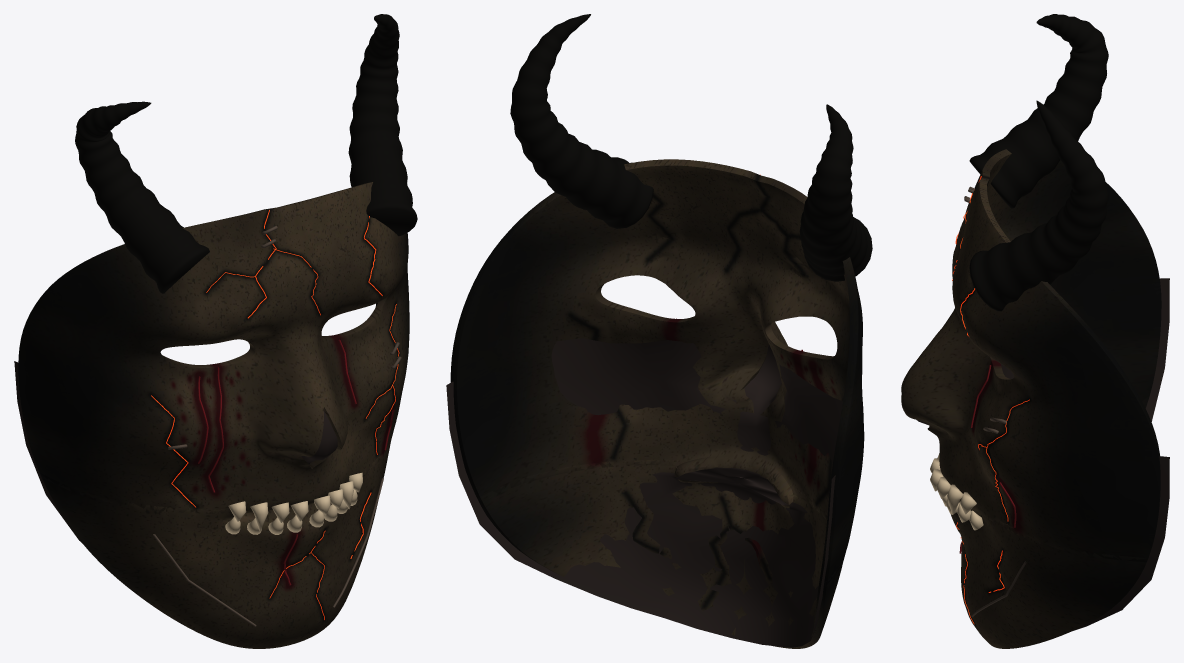
The model's file is masca_ritual.glb.
3 views of the same model, side by side, from view 1: azimuth 30°, elevation 25°; view 2: azimuth 150°, elevation 25°; view 3: azimuth 270°, elevation 25° (orthographic). The views are drawn at different scales.
Parts seen in each view (by area): view 1: MaskShell, Jaw, MouthLiner; view 2: MaskShell, MouthLiner, Jaw; view 3: MaskShell, Jaw, MouthLiner.
Boxes of the visible parts, x1=… form: MaskShell: x1=18, y1=14, x2=417, y2=530; Jaw: x1=40, y1=440, x2=390, y2=648; MouthLiner: x1=14, y1=361, x2=337, y2=543; MaskShell: x1=450, y1=14, x2=872, y2=584; MouthLiner: x1=446, y1=338, x2=842, y2=647; Jaw: x1=476, y1=459, x2=843, y2=648; MaskShell: x1=901, y1=14, x2=1161, y2=562; Jaw: x1=942, y1=397, x2=1148, y2=648; MouthLiner: x1=916, y1=278, x2=1169, y2=630.
Size of the model in its own units: 0.1626 by 0.2443 by 0.1016.
6 materials, 1 textured.
